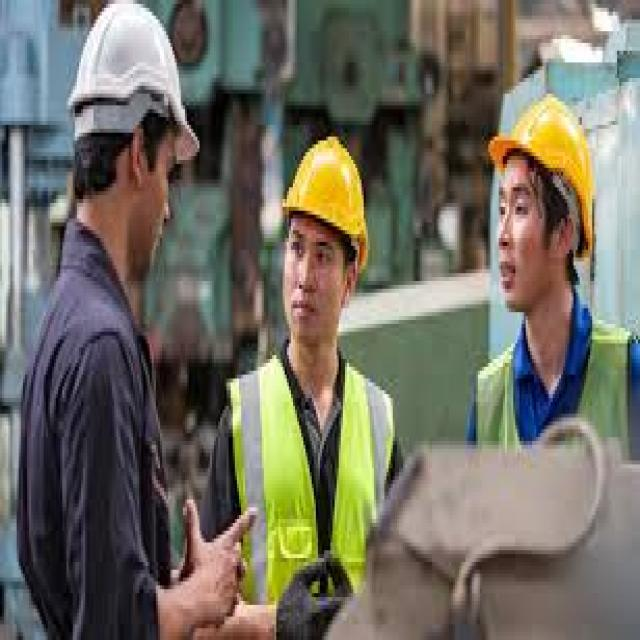Reflective-Jacket: (220, 351, 401, 636), (487, 310, 629, 452)
Safety-Helmet: (62, 1, 200, 156), (484, 86, 601, 226), (280, 128, 372, 254)
